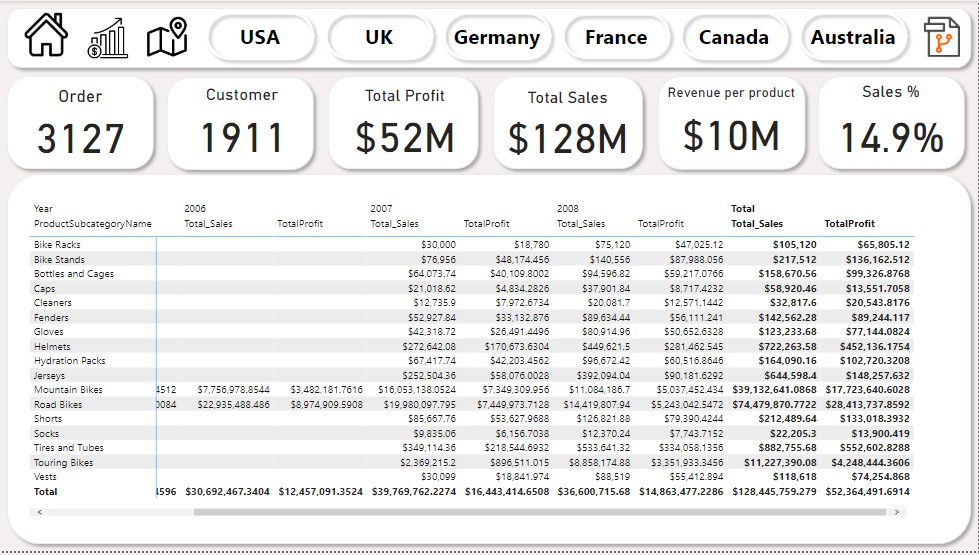

Layout of this report page (visuals, bound fields, positions):
{"tool":"powerbi","page":{"name":"PAGE 3","canvas":[1280,720],"ordinal":2},"visuals":[{"type":"shape","box":[0,0,1280,96],"z":0},{"type":"shape","box":[1061.7,89.7,210,140],"z":0,"group":"g6"},{"type":"group","id":"g1","title":"Group 1","box":[0,89.7,209.3,140.6],"z":1000},{"type":"card","title":"Sales %","fields":{"Values":["factSalesTable.sales%"]},"box":[1072.2,106.1,188.4,106.2],"z":1000,"group":"g6"},{"type":"group","id":"g2","title":"Group 3","box":[420.3,89.7,215.3,140.6],"z":2000},{"type":"shape","box":[636.1,89.7,214.1,140.1],"z":2000,"group":"g4"},{"type":"shape","box":[0,89.7,210,140],"z":3000,"group":"g1"},{"type":"group","id":"g3","title":"Group 5","box":[851.9,89.7,209.3,140.6],"z":3000},{"type":"shape","box":[851.9,89.7,210.9,140.6],"z":3000,"group":"g3"},{"type":"group","id":"g4","title":"Group 6","box":[636.1,89.7,215.3,140.6],"z":4000},{"type":"card","title":"Total Sales","fields":{"Values":["key mesure.Total_Sales"]},"box":[650.8,114.2,185,93.9],"z":4000,"group":"g4"},{"type":"image","box":[26,10.8,69.4,67.3],"z":5000},{"type":"card","title":"Order","fields":{"Values":["key mesure.num_of_orders"]},"box":[25.9,111.3,158.2,96.7],"z":6000,"group":"g1"},{"type":"shape","box":[0,228.6,1280,491.4],"z":6000},{"type":"actionButton","box":[434.9,1.1,169.9,80.6],"z":7000},{"type":"shape","box":[209.8,89.9,210,140],"z":7000,"group":"g5"},{"type":"shape","box":[420.3,89.7,215,140],"z":8000,"group":"g2"},{"type":"group","id":"g5","title":"Group 7","box":[209.8,89.9,210,140],"z":8000},{"type":"card","title":"Revenue per product","fields":{"Values":["factSalesTable.revenue per product"]},"box":[861.6,109.2,192,99.4],"z":9000,"group":"g3"},{"type":"group","id":"g6","title":"Group 4","box":[1061.7,89.7,210,140],"z":10000},{"type":"card","title":"Total Profit","fields":{"Values":["key mesure.TotalProfit"]},"box":[443,112.6,175.2,97.9],"z":10002,"group":"g2"},{"type":"shapeMap","fields":{"Category":["dimRegionTable.Region"]},"box":[1029.6,250.6,230.4,442.1],"z":11000},{"type":"card","title":"Customer","fields":{"Values":["key mesure.num_of_customers"]},"box":[242.3,110.1,149.4,98.1],"z":12000,"group":"g5"},{"type":"shapeMap","fields":{"Category":["dimRegionTable.Region"]},"box":[774.1,250,255.2,441.4],"z":12000},{"type":"shapeMap","fields":{"Category":["dimRegionTable.Region"]},"box":[21.4,471.4,412.9,234.3],"z":13000},{"type":"shapeMap","fields":{"Category":["dimRegionTable.Region"]},"box":[21.4,250,412.9,235.7],"z":14000},{"type":"pieChart","title":"Orders Per Product Category","fields":{"Category":["dimProductCategoryTable.ProductCategoryName","dimRegionTable.Region"],"Y":["key mesure.num_of_orders"]},"box":[420.7,250,353.4,443.1],"z":15000},{"type":"image","box":[184.3,15.8,67.7,61.9],"z":16000},{"type":"actionButton","box":[622.1,1.1,169.9,80.6],"z":17000},{"type":"actionButton","box":[809.3,1.1,169.9,80.6],"z":18000},{"type":"actionButton","box":[996.5,1.1,169.9,80.6],"z":19000},{"type":"textbox","box":[262.1,28.8,172.8,49],"z":20000},{"type":"image","box":[109,16.4,64.2,62.7],"z":21000},{"type":"image","box":[1197,10.4,73.1,73.1],"z":21001}]}

Visuals, with their boxes in screenshot pixels (x1, y1, x2, y2), scaled from the page's 1280x720 canvas onto the 979x555 screenshot:
shape: Rect(0, 0, 978, 74)
shape: Rect(812, 69, 973, 177)
"Group 1" group: Rect(0, 69, 160, 178)
"Sales %" card: Rect(820, 82, 964, 164)
"Group 3" group: Rect(321, 69, 486, 178)
shape: Rect(487, 69, 650, 177)
shape: Rect(0, 69, 161, 177)
"Group 5" group: Rect(652, 69, 812, 178)
shape: Rect(652, 69, 813, 178)
"Group 6" group: Rect(487, 69, 651, 178)
"Total Sales" card: Rect(498, 88, 639, 160)
image: Rect(20, 8, 73, 60)
"Order" card: Rect(20, 86, 141, 160)
shape: Rect(0, 176, 978, 554)
actionButton: Rect(333, 1, 463, 63)
shape: Rect(160, 69, 321, 177)
shape: Rect(321, 69, 486, 177)
"Group 7" group: Rect(160, 69, 321, 177)
"Revenue per product" card: Rect(659, 84, 806, 161)
"Group 4" group: Rect(812, 69, 973, 177)
"Total Profit" card: Rect(339, 87, 473, 162)
shapeMap - dimRegionTable.Region: Rect(787, 193, 964, 534)
"Customer" card: Rect(185, 85, 300, 160)
shapeMap - dimRegionTable.Region: Rect(592, 193, 787, 533)
shapeMap - dimRegionTable.Region: Rect(16, 363, 332, 544)
shapeMap - dimRegionTable.Region: Rect(16, 193, 332, 374)
"Orders Per Product Category" pieChart: Rect(322, 193, 592, 534)
image: Rect(141, 12, 193, 60)
actionButton: Rect(476, 1, 606, 63)
actionButton: Rect(619, 1, 749, 63)
actionButton: Rect(762, 1, 892, 63)
textbox: Rect(200, 22, 333, 60)
image: Rect(83, 13, 132, 61)
image: Rect(916, 8, 971, 64)
